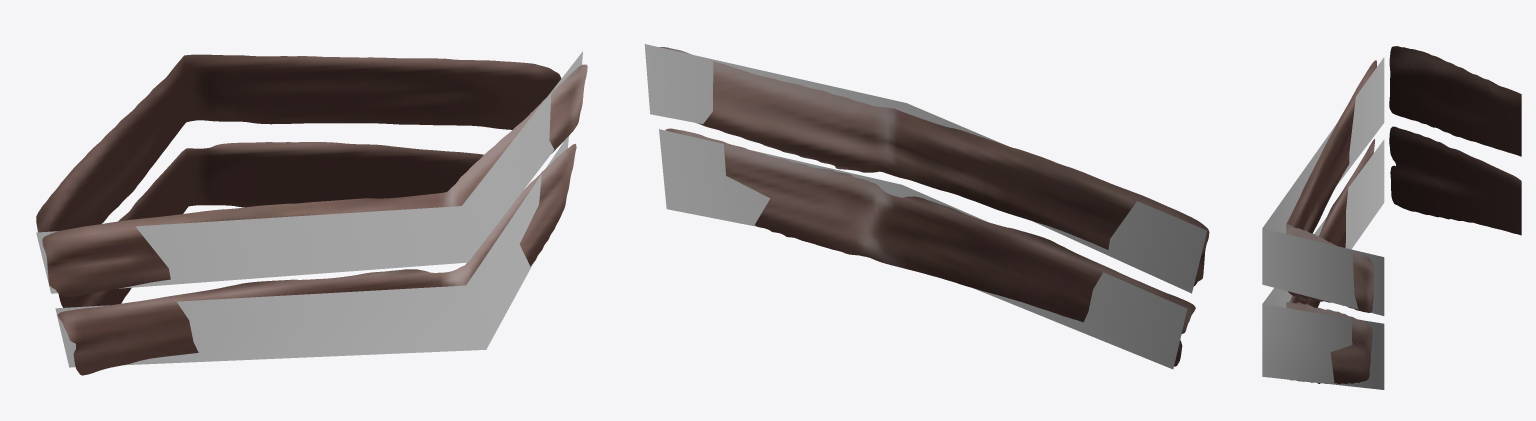
File: Small Wood Crate.FBX
The picture shows the model from 3 angles, left to right: view 1: azimuth 30°, elevation 25°; view 2: azimuth 150°, elevation 25°; view 3: azimuth 270°, elevation 25°; orthographic projection. The views are drawn at different scales.
Visible parts, largest first — view 1: Small Wood Crate, Mask; view 2: Small Wood Crate, Mask; view 3: Small Wood Crate, Mask.
Part boxes in pixels (box(x1,y1,x2,y2)): Small Wood Crate: box(36, 54, 587, 375); Mask: box(36, 51, 582, 367); Small Wood Crate: box(659, 47, 1209, 366); Mask: box(644, 44, 1206, 369); Small Wood Crate: box(1286, 46, 1521, 384); Mask: box(1262, 57, 1384, 389).
Size of the model in its own units: 127 by 53 by 60.25.
